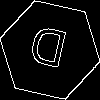D: (25, 25, 70, 78)
